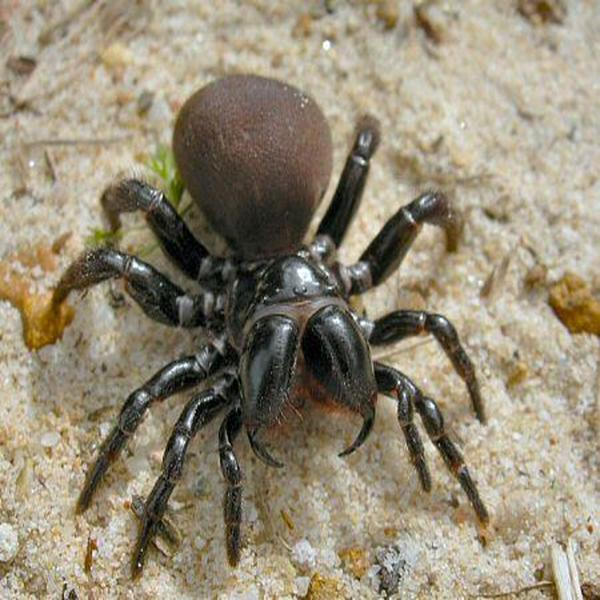Red Headed Mouse Spider: (75, 71, 488, 562)
